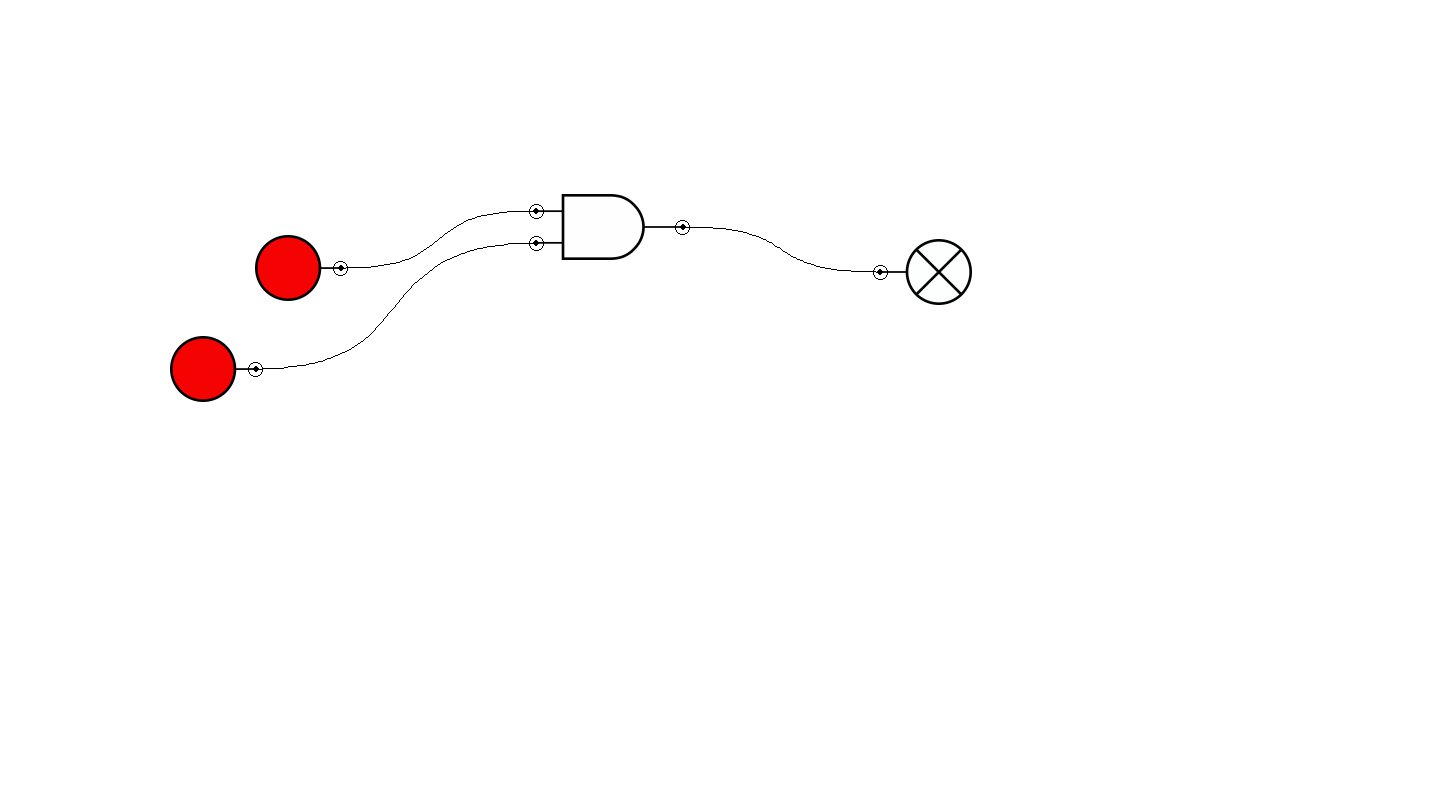and: (529, 194, 690, 260)
bulb: (873, 239, 972, 305)
switch_False: (255, 235, 348, 301), (170, 336, 263, 402)
